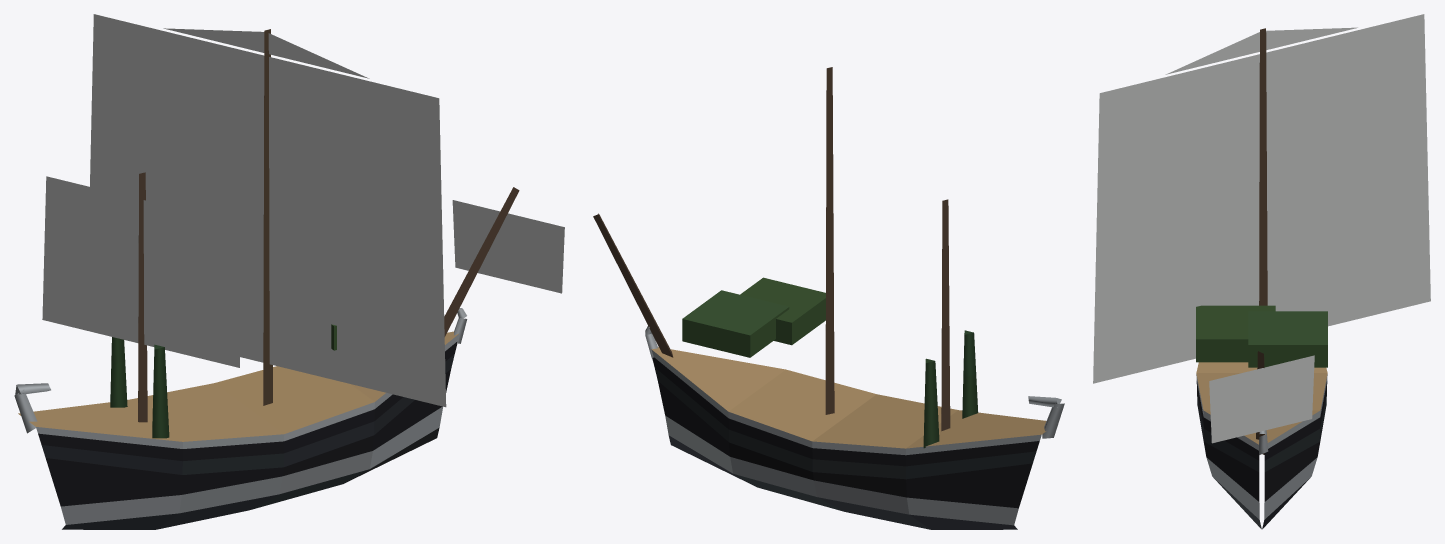
The model's file is titan_usde_lod.glb.
The picture shows the model from 3 angles, left to right: view 1: azimuth 30°, elevation 25°; view 2: azimuth 150°, elevation 25°; view 3: azimuth 270°, elevation 25°; orthographic projection. The views are drawn at different scales.
Visible parts, largest first — view 1: lod; view 2: lod; view 3: lod.
Boxes of the visible parts, x1,y1,x2,y2 form: lod: (14,14,564,529); lod: (593,67,1064,529); lod: (1093,14,1430,529).
Size of the model in its own units: 26.7 by 23.22 by 15.85.
